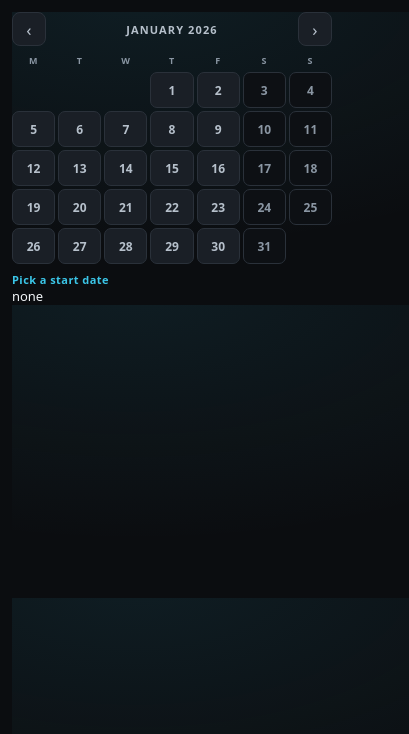
RangePicker › walks months without losing the selection
Later steps or results of the test are not shown.
Click the button "28" at [126, 246], box [104,228,147,264]
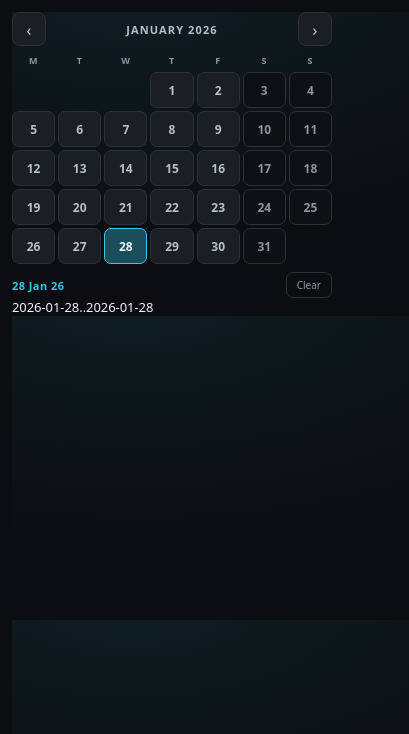
Click the button with test id "range-next-month" at [315, 29], box [298,12,332,46]
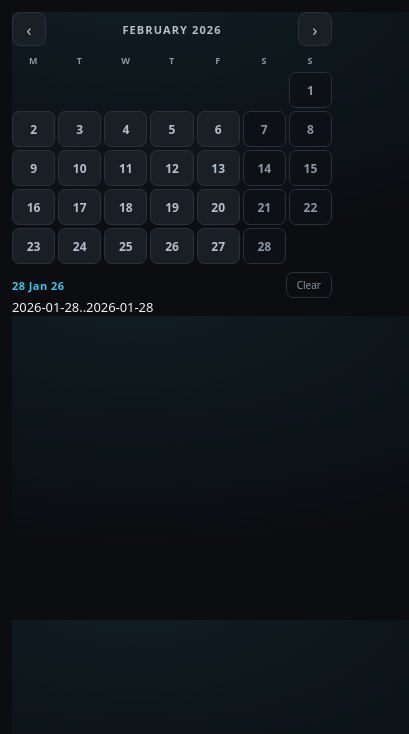
Expected: the text with test id "range-month" reads "FEBRUARY 2026", [122,22,222,36]
